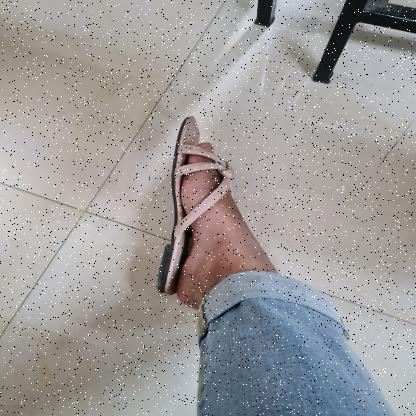leg: (145, 108, 299, 312)
